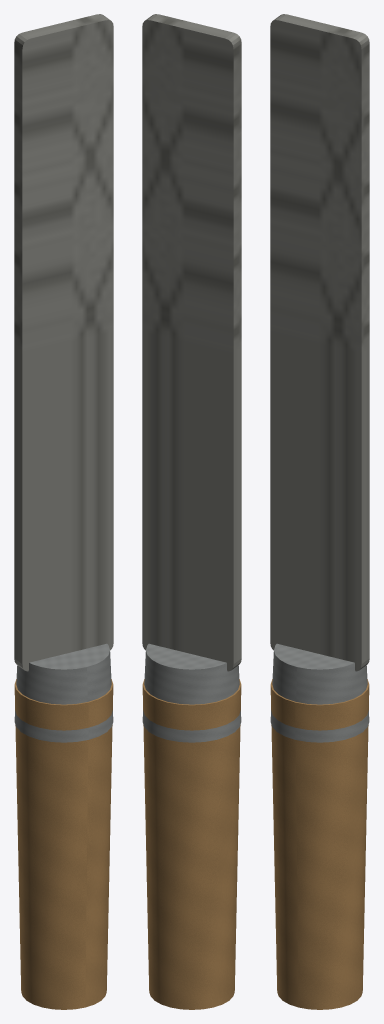
The model's file is Metal_File.glb.
3 views of the same model, side by side, from view 1: azimuth 30°, elevation 25°; view 2: azimuth 150°, elevation 25°; view 3: azimuth 330°, elevation 25° (orthographic).
Parts seen in each view (by area): view 1: File_Blade, Grip, Ferrule; view 2: File_Blade, Grip, Ferrule; view 3: File_Blade, Grip, Ferrule.
Boxes of the visible parts, x1,y1,x2,y2 form: File_Blade: (14,14,113,671); Grip: (14,679,113,1009); Ferrule: (14,643,113,742); File_Blade: (142,14,241,671); Grip: (142,679,241,1009); Ferrule: (142,643,241,742); File_Blade: (270,14,369,671); Grip: (270,679,369,1009); Ferrule: (270,643,369,742).
Bounding box in the file's own units: 0.032 × 0.3235 × 0.03.
Materials: 3 (3 with a texture image).
